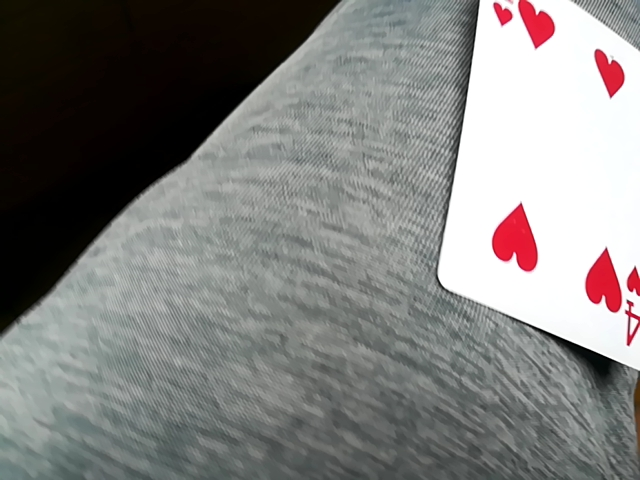hx 4: (440, 1, 639, 379)
